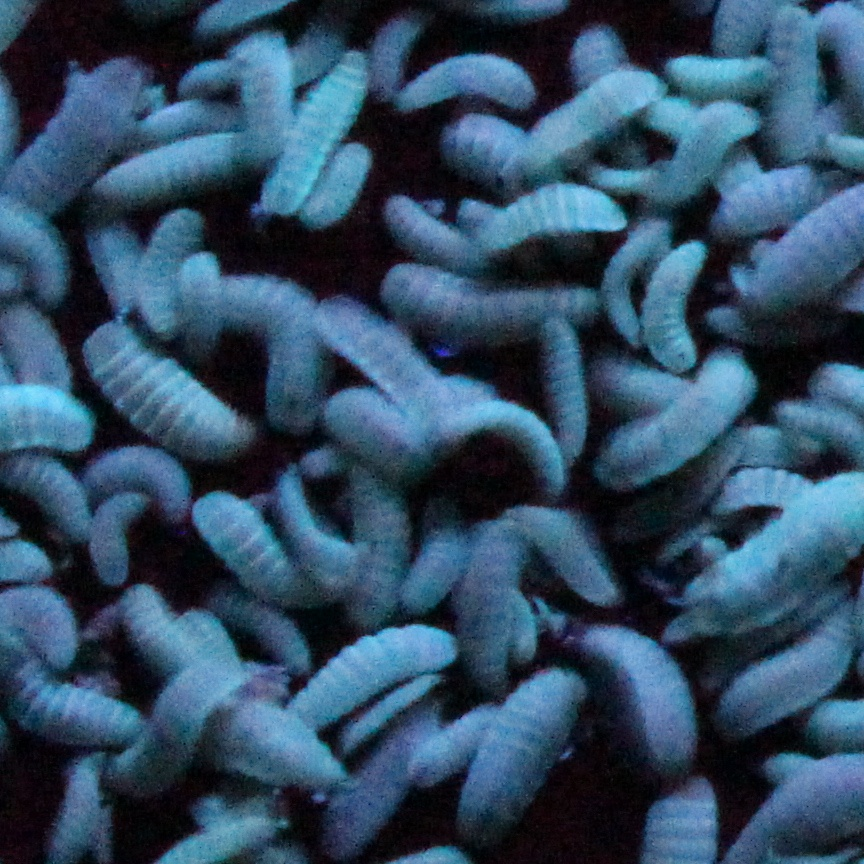larve: (88, 328, 257, 454), (464, 662, 579, 833), (10, 59, 138, 205), (721, 598, 862, 728), (605, 354, 750, 478), (262, 48, 366, 219), (583, 624, 707, 767), (109, 662, 259, 780), (316, 305, 452, 433), (379, 255, 600, 329), (295, 626, 460, 721), (524, 66, 659, 176), (195, 491, 319, 607), (100, 129, 257, 210), (474, 185, 628, 260), (7, 664, 135, 746), (344, 469, 412, 618), (469, 519, 524, 702), (133, 207, 209, 336), (83, 435, 190, 524), (540, 312, 598, 472), (398, 54, 543, 114), (522, 508, 611, 605), (643, 241, 700, 366), (660, 45, 778, 102), (303, 141, 369, 228)
